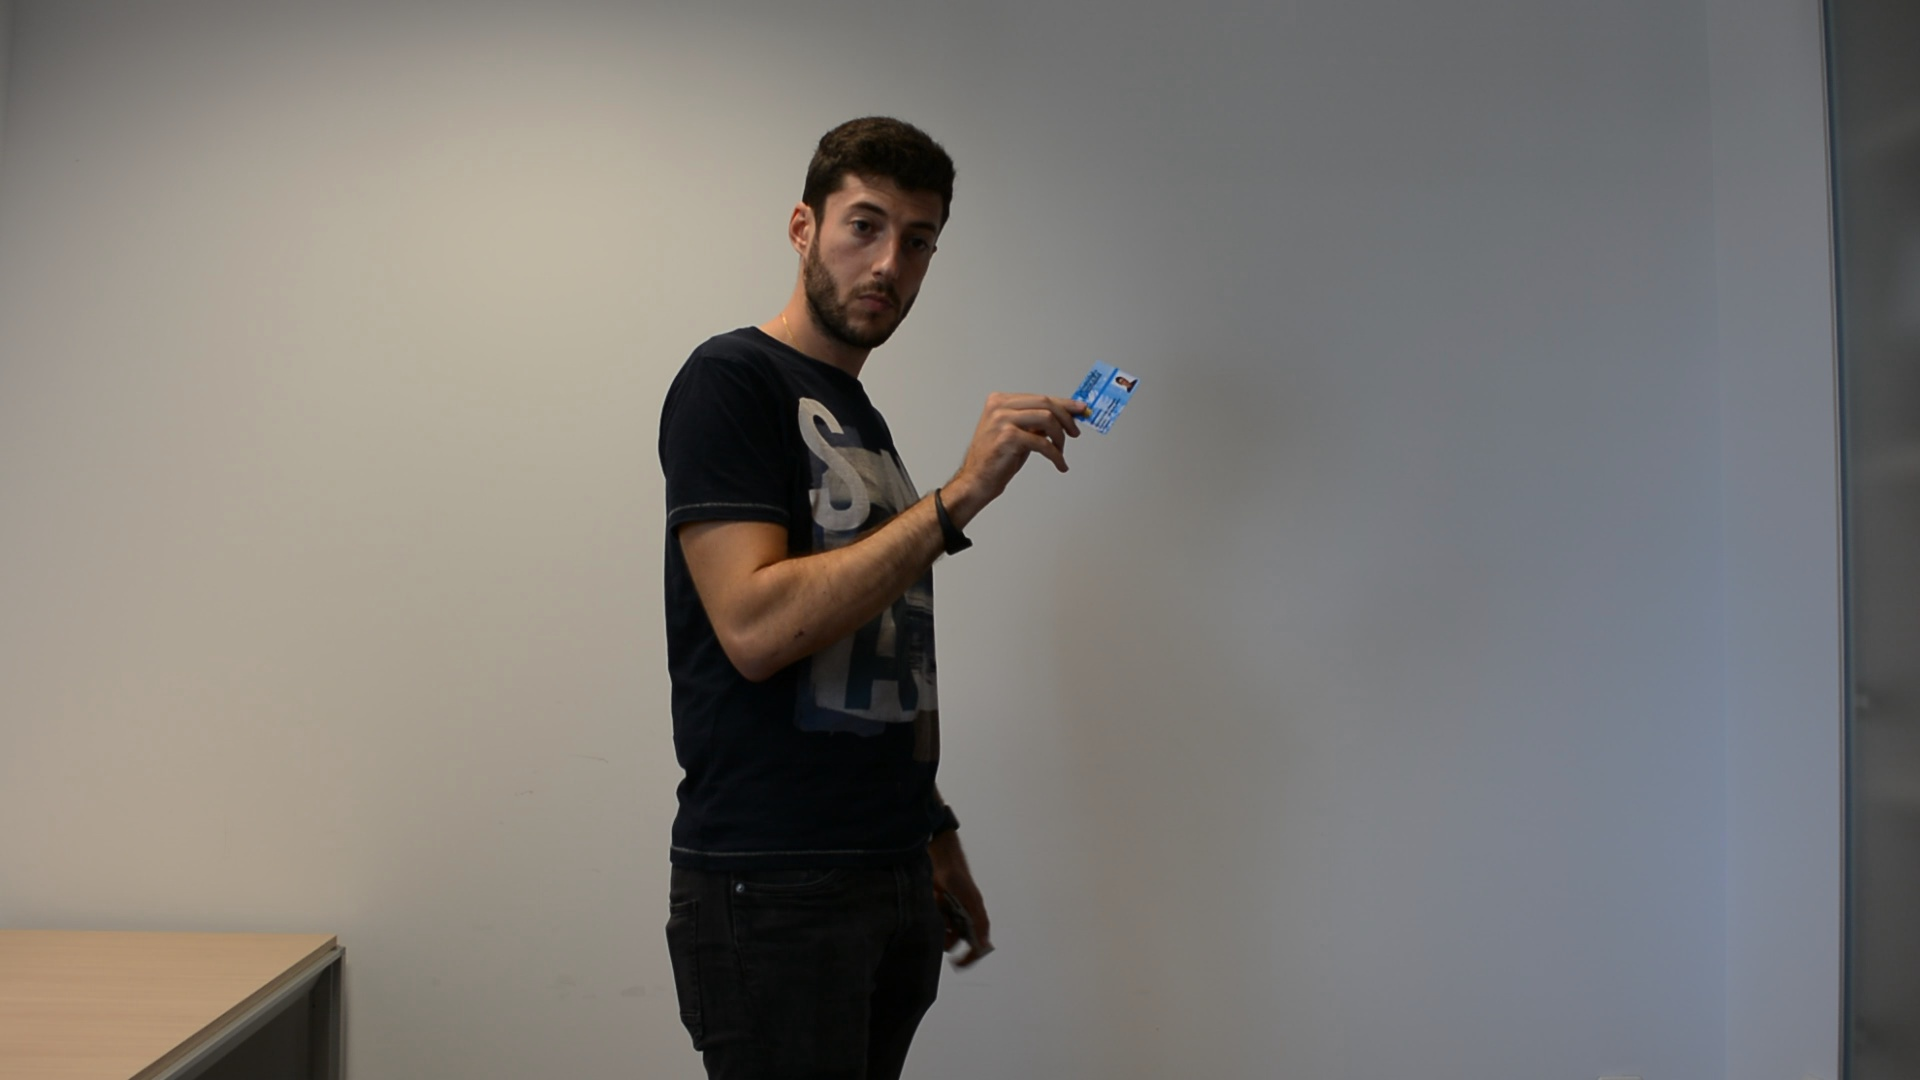tarjeta: (1065, 357, 1145, 436)
